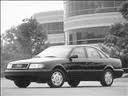car: (1, 43, 128, 91)
